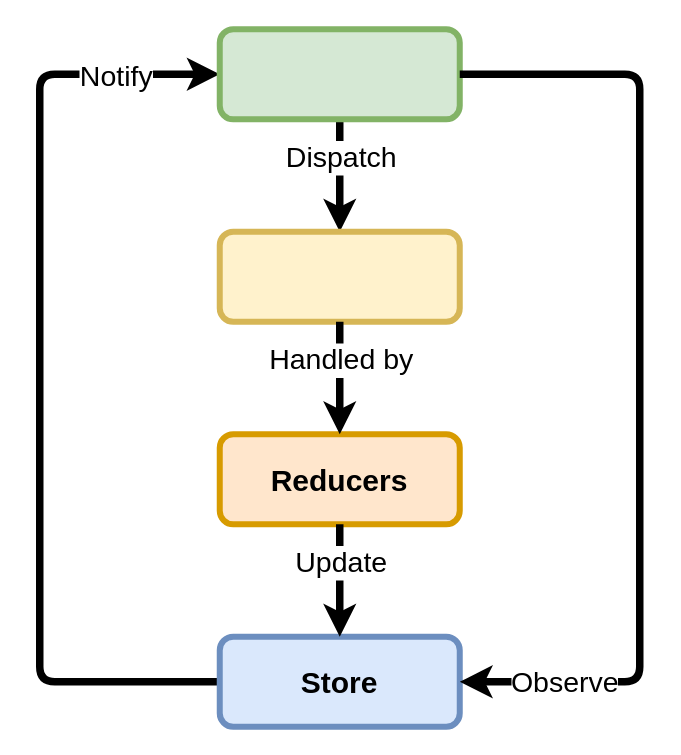
This 681x755 diagram has some shape labels left out. The shapes that lost their labels are listed below. From the top down, each one's centre as x and y in pixels, then its label:
(339,74): Components
(339,276): Actions
